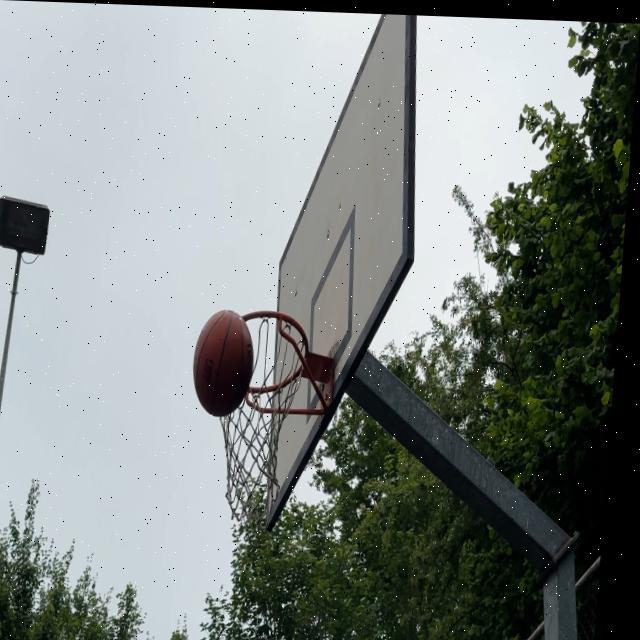Basketball: (189, 310, 256, 418)
